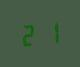one: (40, 20, 60, 45)
two: (19, 21, 39, 47)
